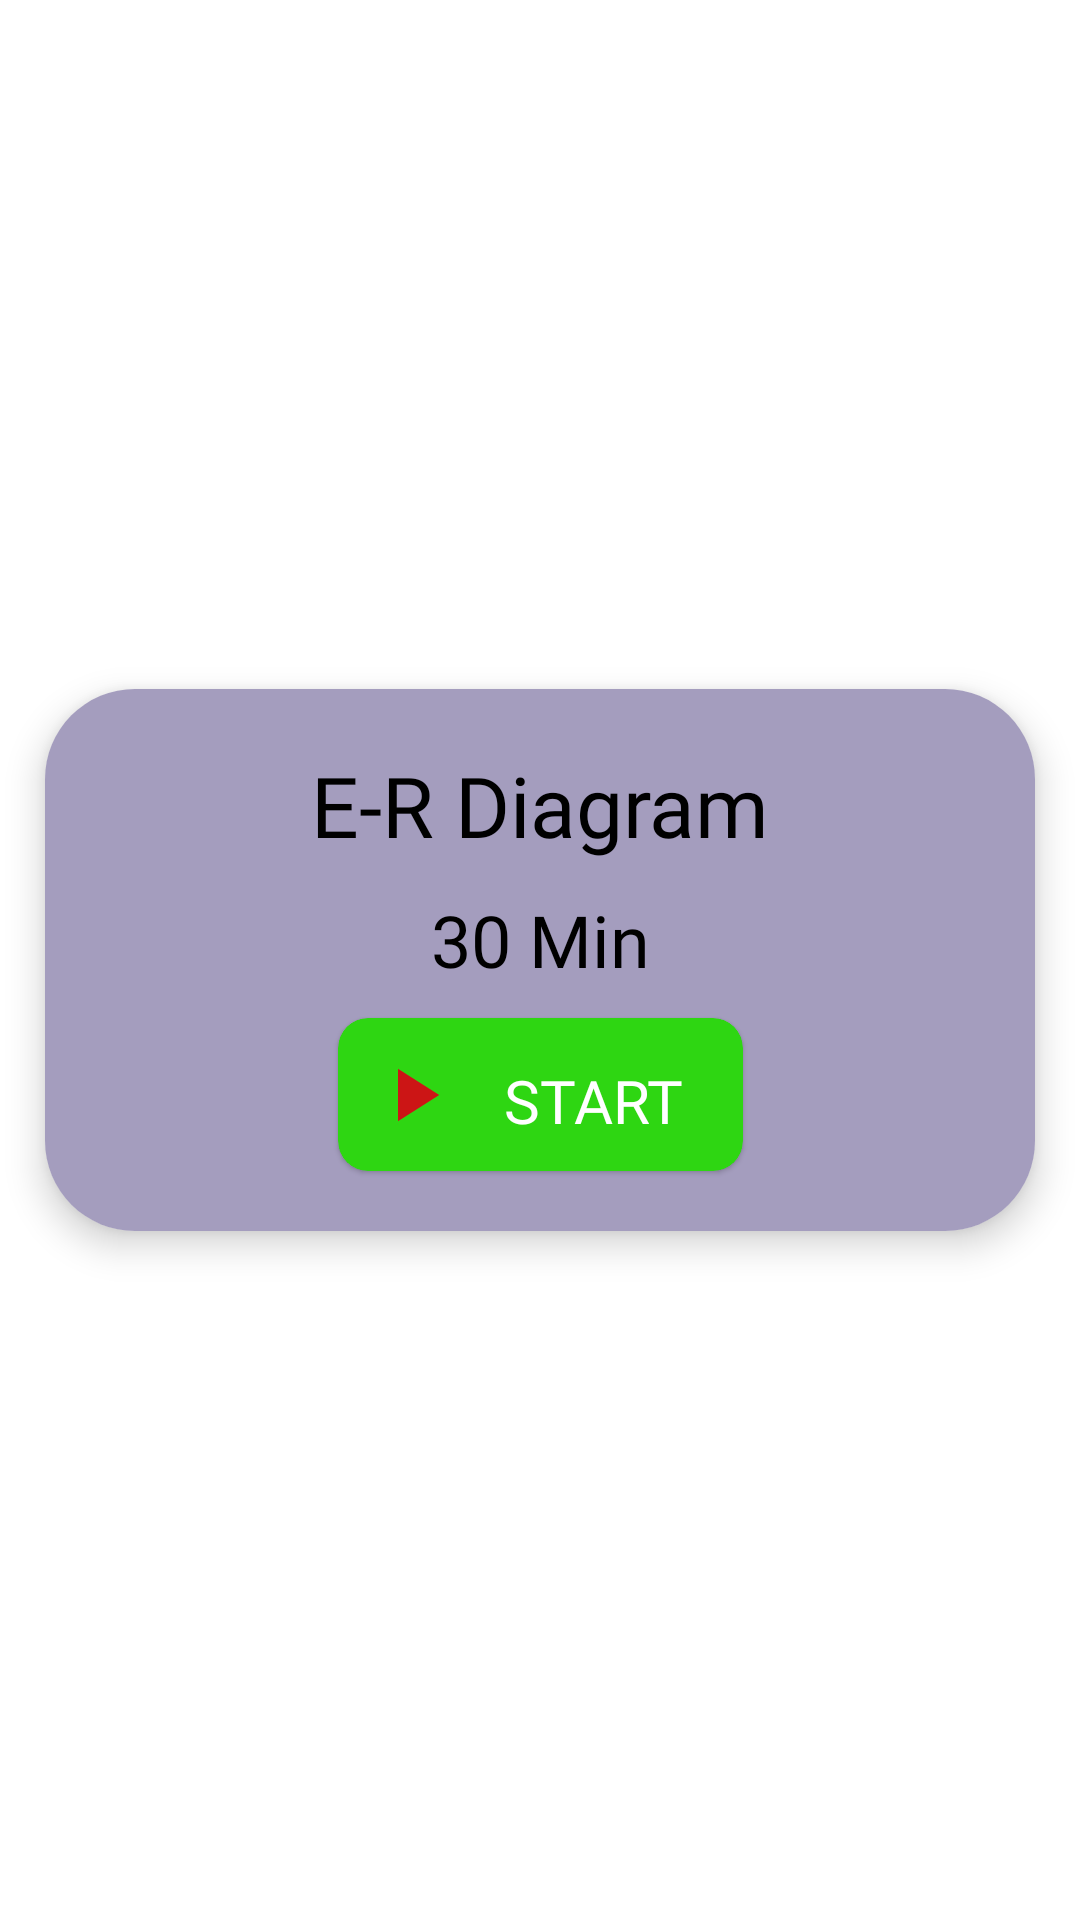

Point at icon controls on the screen. Image size 1080 × 1920, points as (x,y).
play arrow: (418,1095)
